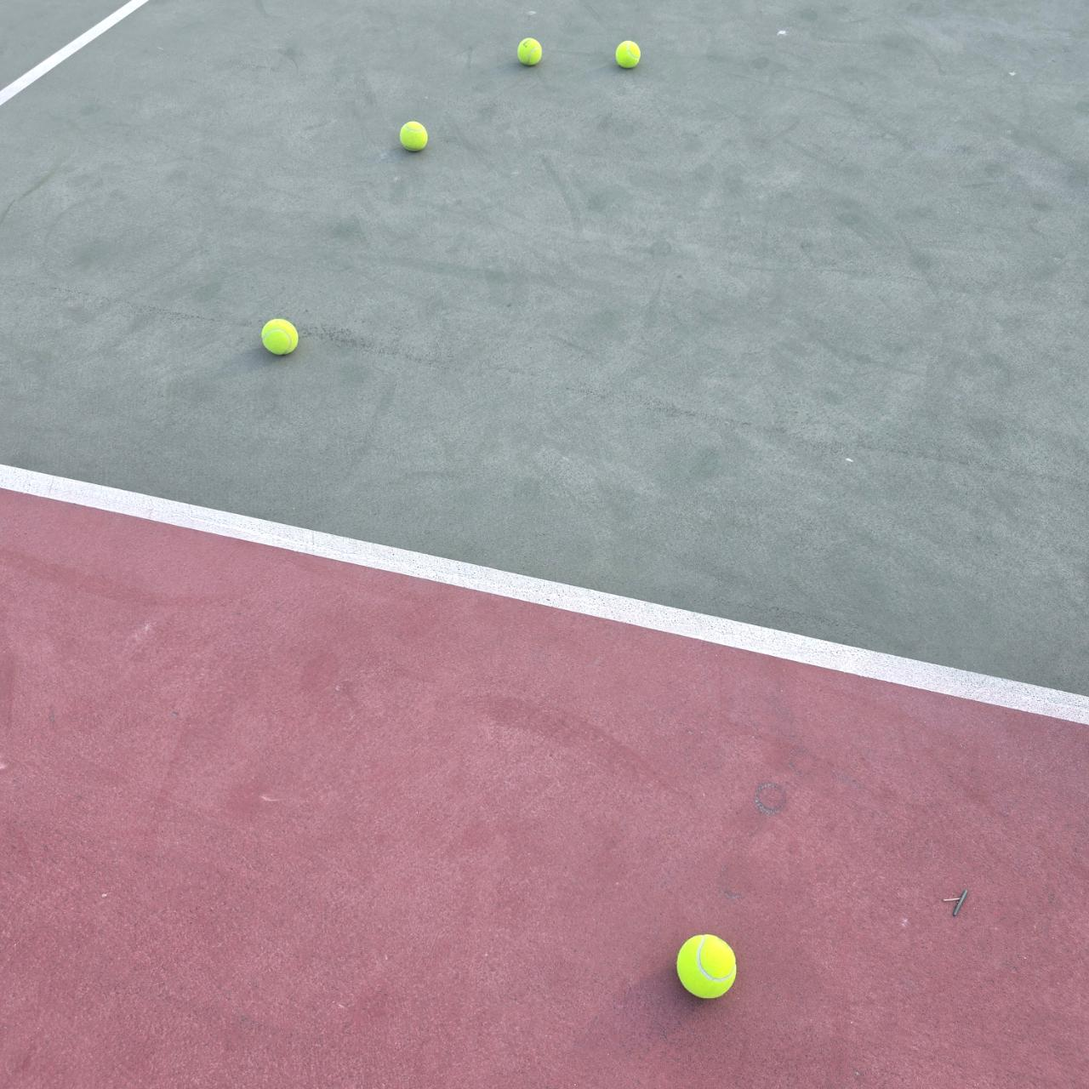tennis-ball: (676, 931, 739, 1000), (261, 316, 300, 356), (399, 118, 430, 151), (615, 37, 643, 68), (517, 35, 545, 66)
